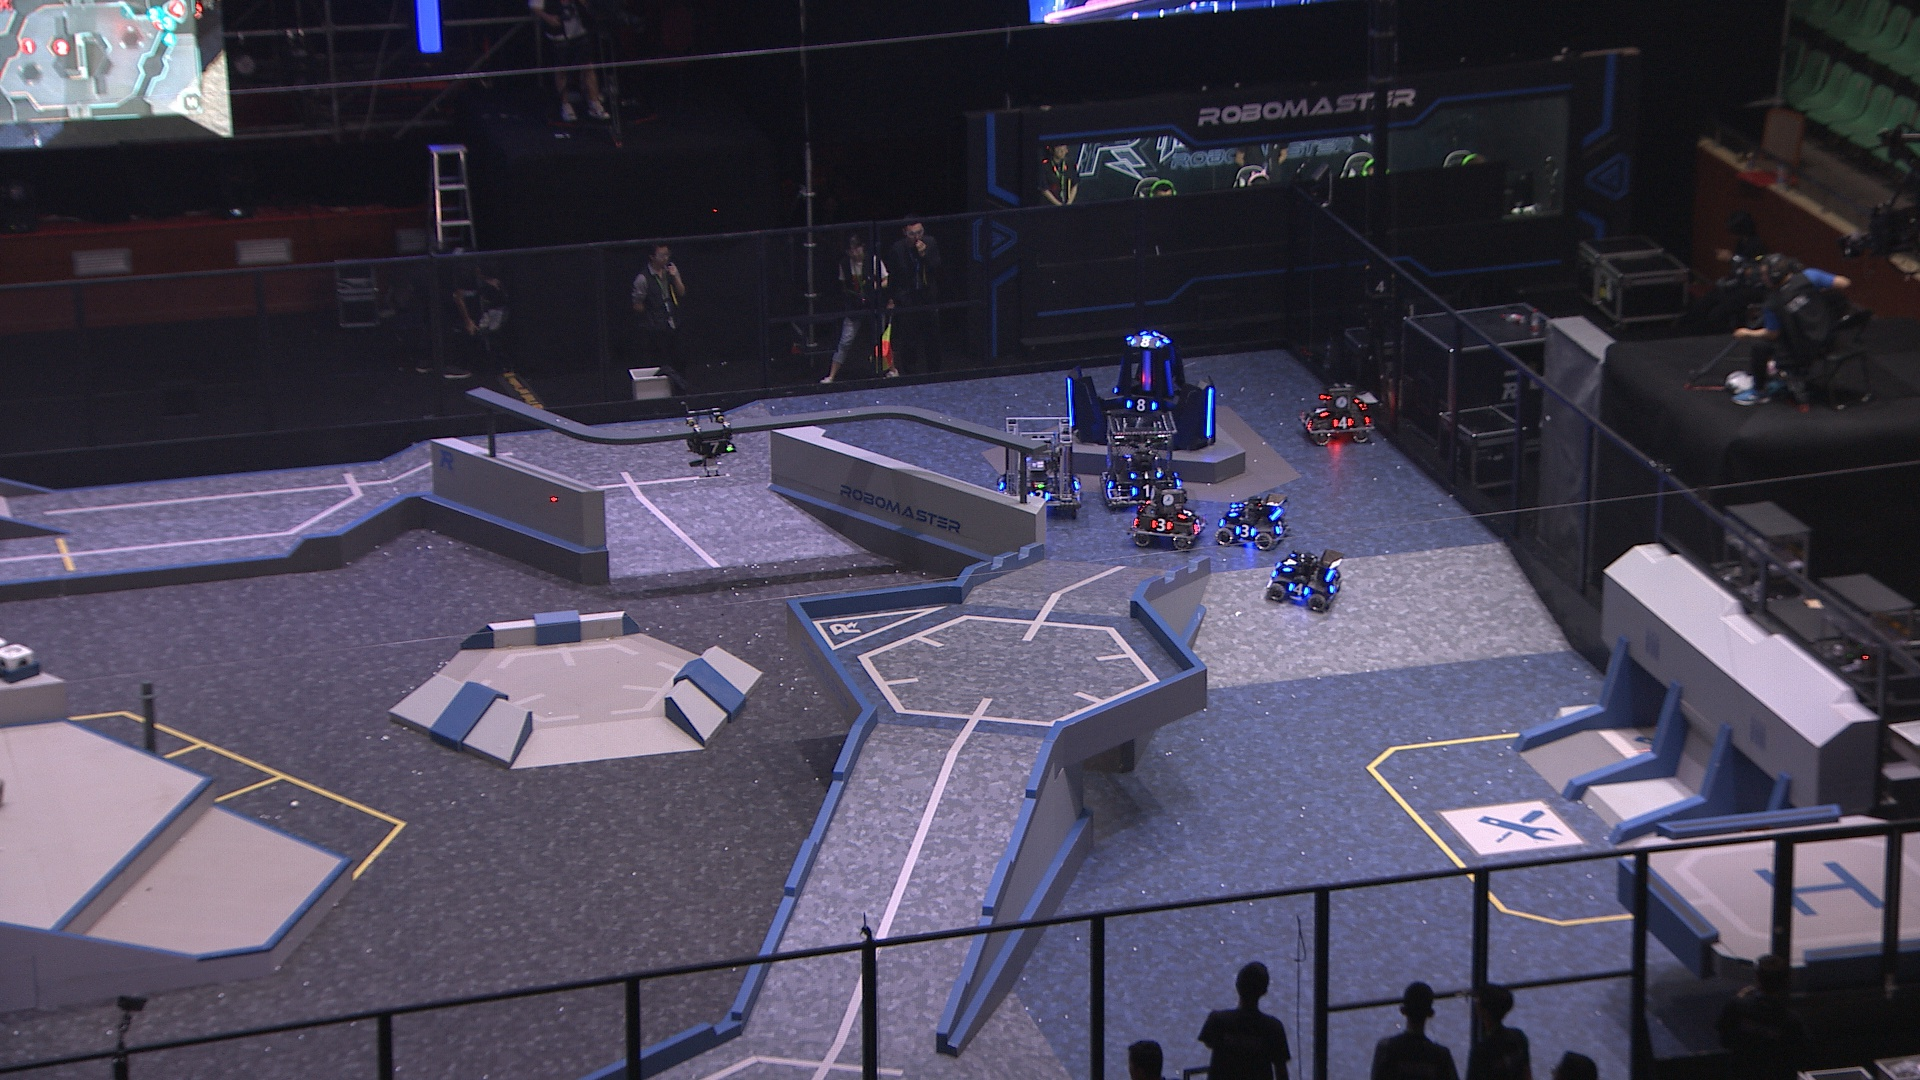armor: (1063, 373, 1076, 431), (695, 438, 736, 456), (1127, 484, 1168, 500), (1122, 398, 1162, 414), (1139, 348, 1153, 394), (1160, 357, 1176, 396), (1125, 469, 1168, 483), (1204, 385, 1215, 439), (1331, 413, 1357, 431), (1127, 335, 1160, 349), (1280, 553, 1300, 574), (1286, 580, 1309, 597), (1225, 498, 1244, 520), (1233, 522, 1254, 541), (1269, 518, 1288, 537), (1101, 469, 1116, 495), (1150, 517, 1171, 534), (1174, 505, 1193, 522), (1027, 488, 1050, 502), (1300, 411, 1315, 434), (1150, 328, 1168, 345), (1328, 575, 1342, 595), (1313, 404, 1331, 419), (1069, 472, 1083, 491), (1192, 517, 1205, 533)
base: (1055, 324, 1221, 452)
car: (996, 410, 1087, 522), (1098, 404, 1185, 510), (1124, 484, 1211, 559), (1294, 378, 1378, 455), (1265, 542, 1352, 615), (1215, 491, 1295, 553)
watcher: (678, 396, 737, 477)
